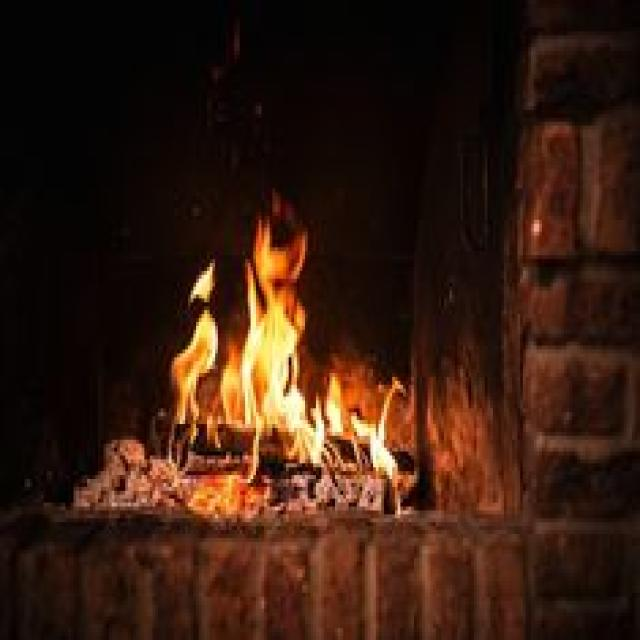Fire: (159, 195, 417, 525)
